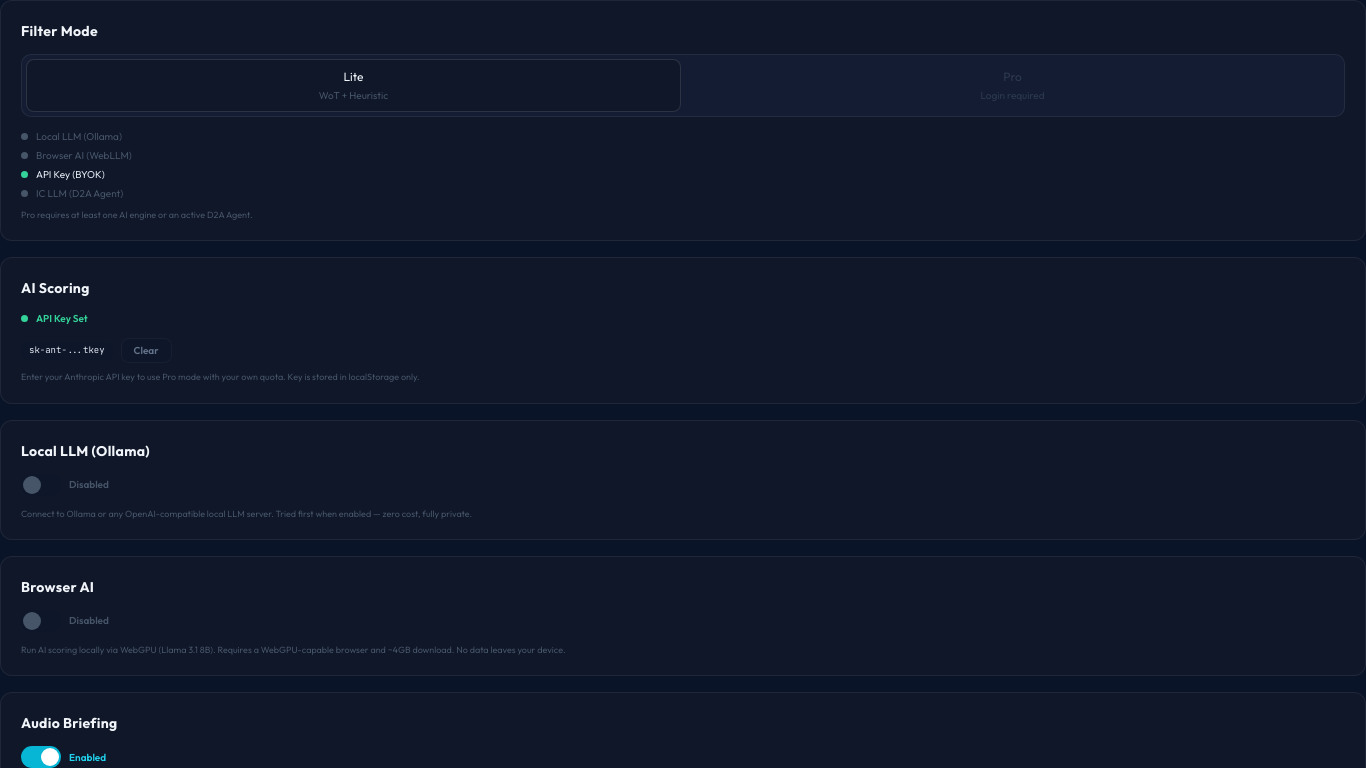
FeedSection — AI Scoring (BYOK) › Clear key requires confirmation
Click the button "Clear": (146, 351) [121, 338, 172, 363]
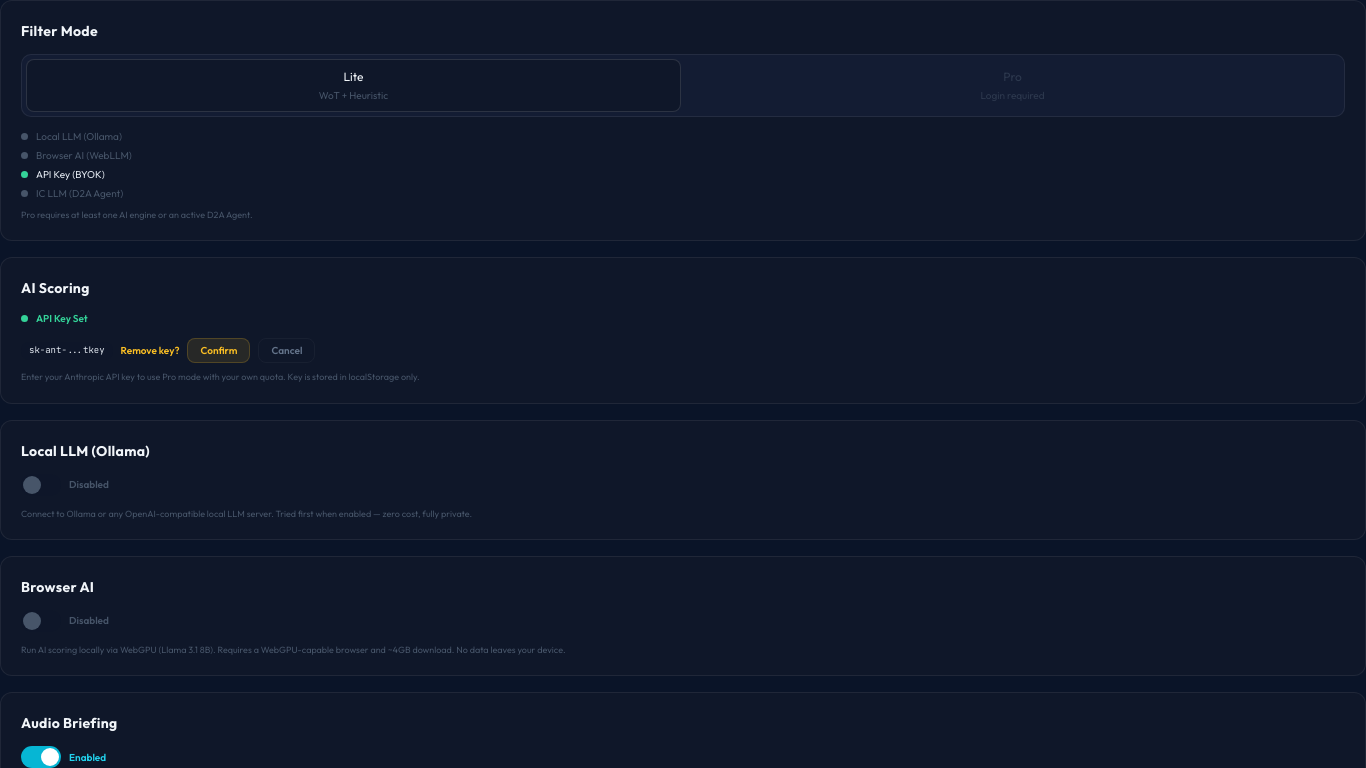
Expected: the text "Remove key?" is shown, [121, 343, 180, 358]
Expected: the button "Confirm" is shown, [188, 338, 250, 363]
Expected: the button "Cancel" is shown, [258, 338, 315, 363]
